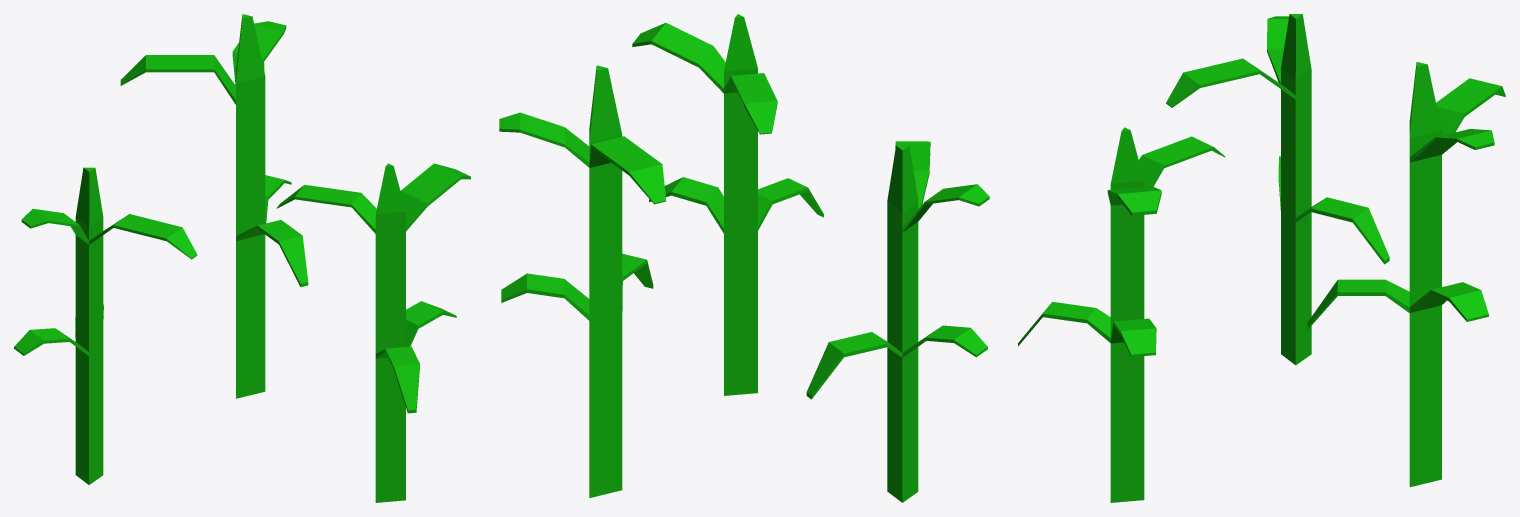
File: cornStage3.obj
3 renders of one model, left to right at view 1: azimuth 30°, elevation 25°; view 2: azimuth 150°, elevation 25°; view 3: azimuth 270°, elevation 25°, orthographic. The views are drawn at different scales.
Parts seen in each view (by area): view 1: CornStage3; view 2: CornStage3; view 3: CornStage3.
Boxes of the visible parts, <box> form: CornStage3: <box>14,14,470,502</box>; CornStage3: <box>499,14,989,502</box>; CornStage3: <box>1018,14,1505,502</box>.
Size of the model in its own units: 1.99 by 1.95 by 2.01.
